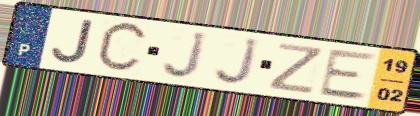C: (93, 20, 151, 75)
E: (315, 48, 380, 102)
J: (160, 30, 210, 82), (213, 37, 262, 88), (49, 18, 96, 66)
Z: (265, 41, 327, 96)
